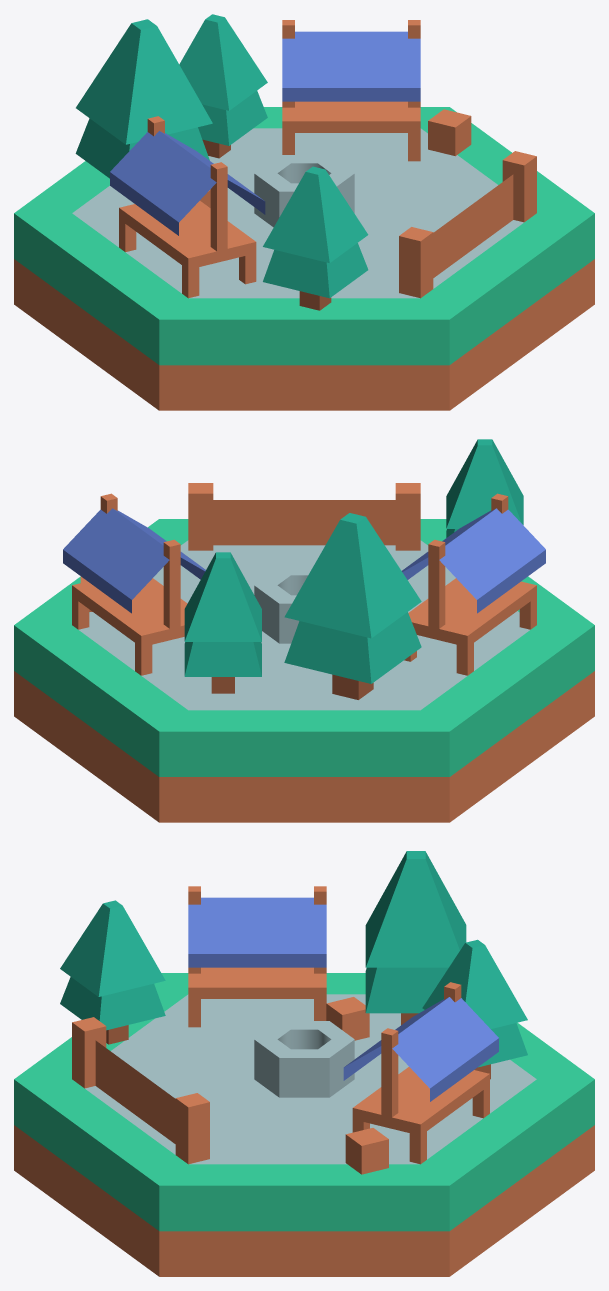
The model's file is building_market.dae.
3 renders of one model, top to bottom at view 1: azimuth 30°, elevation 25°; view 2: azimuth 150°, elevation 25°; view 3: azimuth 270°, elevation 25°, orthographic.
Visible parts, largest first — view 1: building_market, stall (×2), tree (×3), fence, well, crate; view 2: building_market, tree (×3), stall (×2), fence, well; view 3: building_market, stall (×2), tree (×3), fence, well, crate (×2).
Part boxes in pixels (bbox=[...]): building_market: bbox=[14, 107, 594, 410]; stall (×2): bbox=[110, 20, 420, 298]; tree (×3): bbox=[75, 14, 368, 310]; fence: bbox=[399, 151, 536, 298]; well: bbox=[254, 155, 354, 227]; crate: bbox=[428, 109, 471, 156]; building_market: bbox=[14, 519, 594, 822]; tree (×3): bbox=[184, 439, 523, 699]; stall (×2): bbox=[63, 493, 545, 675]; fence: bbox=[188, 483, 420, 550]; well: bbox=[254, 567, 312, 643]; building_market: bbox=[14, 973, 594, 1276]; stall (×2): bbox=[188, 886, 498, 1164]; tree (×3): bbox=[60, 851, 527, 1079]; fence: bbox=[72, 1017, 209, 1164]; well: bbox=[254, 1021, 354, 1097]; crate (×2): bbox=[326, 997, 388, 1174].
Bounding box in the file's own units: 1 × 0.58 × 1.15.
